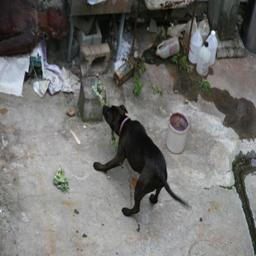bottle: (232, 49, 256, 77), (242, 54, 256, 101), (242, 38, 256, 84), (242, 22, 256, 65), (244, 39, 256, 86), (243, 25, 256, 56)
dog: (159, 134, 256, 256)
